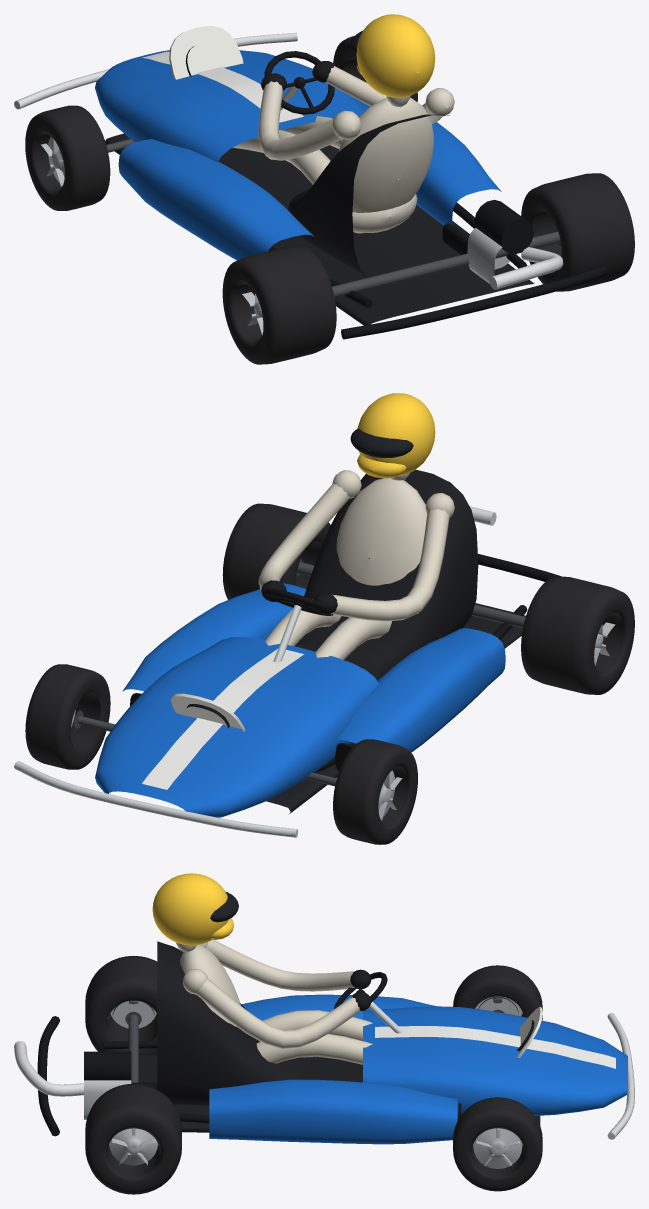
Rendered from go-kart-blue.d87ea373.glb.
3 renders of one model, top to bottom at view 1: azimuth 30°, elevation 25°; view 2: azimuth 150°, elevation 25°; view 3: azimuth 270°, elevation 25°, orthographic. The views are drawn at different scales.
Visible parts, largest first — view 1: chassis, wheel_rl, wheel_rr, wheel_fl, steer_wheel, wheel_fr; view 2: chassis, wheel_rl, wheel_fl, wheel_fr, wheel_rr, steer_wheel; view 3: chassis, wheel_rr, wheel_fr, wheel_rl, wheel_fl.
Boxes of the visible parts, <box> form: chassis: <box>14,14,607,339</box>; wheel_rl: <box>222,246,336,364</box>; wheel_rr: <box>521,173,634,291</box>; wheel_fl: <box>25,105,110,210</box>; steer_wheel: <box>264,51,334,114</box>; wheel_fr: <box>333,36,417,101</box>; chassis: <box>14,393,561,837</box>; wheel_rl: <box>521,576,634,694</box>; wheel_fl: <box>333,739,417,844</box>; wheel_fr: <box>25,664,110,769</box>; wheel_rr: <box>222,503,330,599</box>; steer_wheel: <box>264,588,333,615</box>; chassis: <box>14,873,634,1144</box>; wheel_rr: <box>85,1083,181,1194</box>; wheel_fr: <box>453,1097,542,1191</box>; wheel_rl: <box>85,955,157,1054</box>; wheel_fl: <box>453,965,542,1020</box>.
Size of the model in its own units: 1.57 by 1.13 by 2.63.
